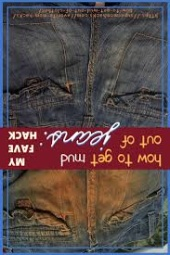earth: (40, 172, 135, 214)
